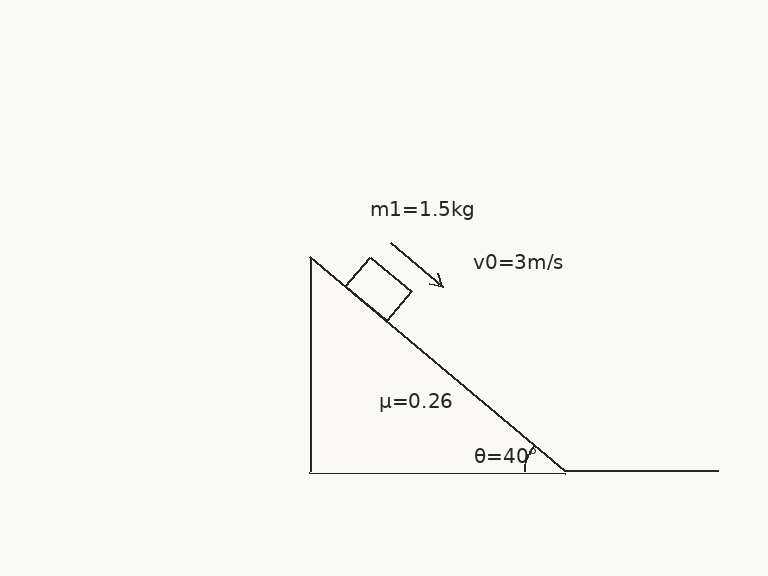block: (343, 254, 413, 323)
ramp: (308, 255, 567, 473)
